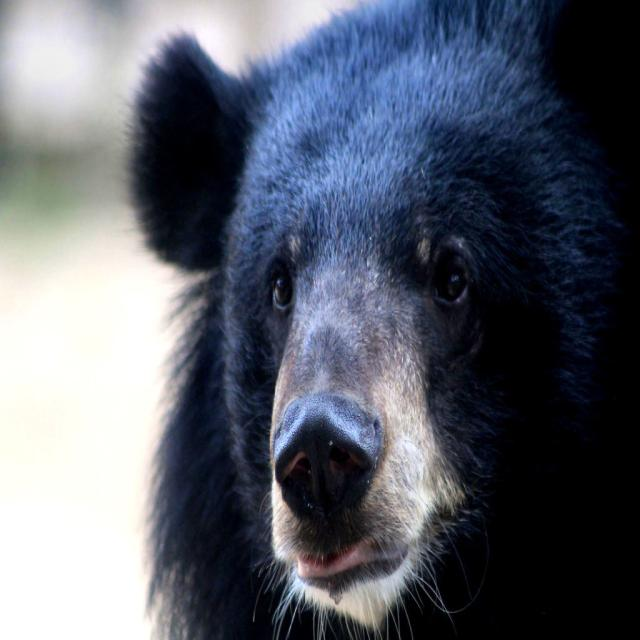Buffalo: (118, 0, 639, 639)
